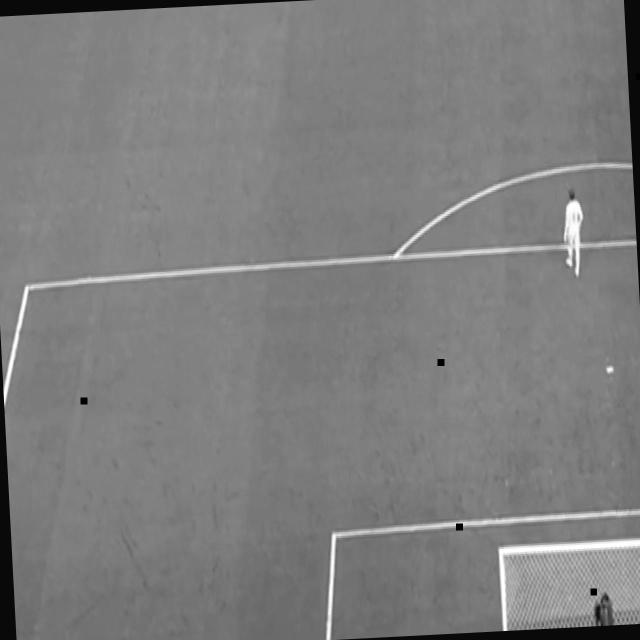player-white: (559, 188, 587, 280)
